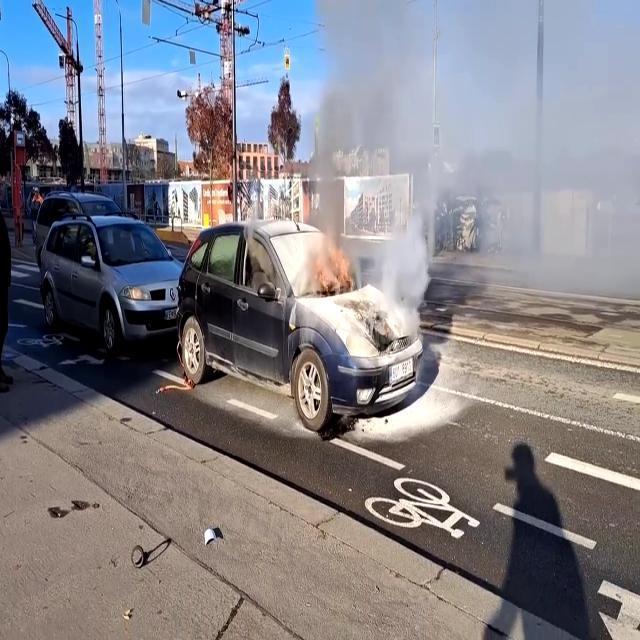Smoke: (293, 0, 640, 325)
